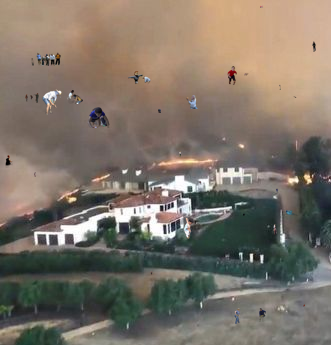Human: (227, 65, 254, 85), (42, 89, 62, 115), (234, 308, 266, 324), (87, 107, 110, 128), (31, 52, 64, 66), (128, 71, 152, 85), (180, 218, 194, 239), (67, 90, 83, 104), (186, 95, 198, 109), (25, 93, 39, 103), (285, 210, 298, 219), (5, 155, 13, 168), (273, 224, 277, 235), (312, 41, 316, 52), (231, 296, 235, 304), (197, 181, 202, 185), (293, 95, 297, 98), (243, 212, 246, 216), (279, 84, 281, 90), (158, 109, 161, 113), (179, 151, 181, 157), (150, 271, 153, 275), (276, 188, 278, 193), (292, 172, 297, 174), (34, 172, 36, 177), (303, 304, 305, 309), (260, 5, 263, 8)
